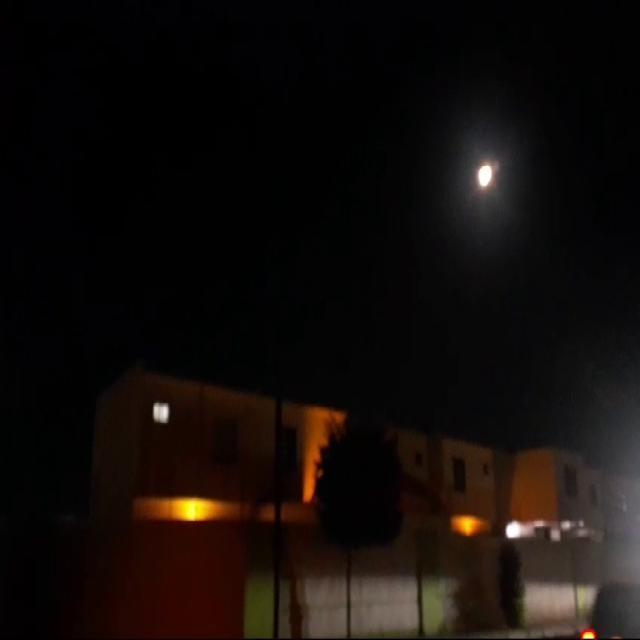moon: (477, 160, 497, 194)
